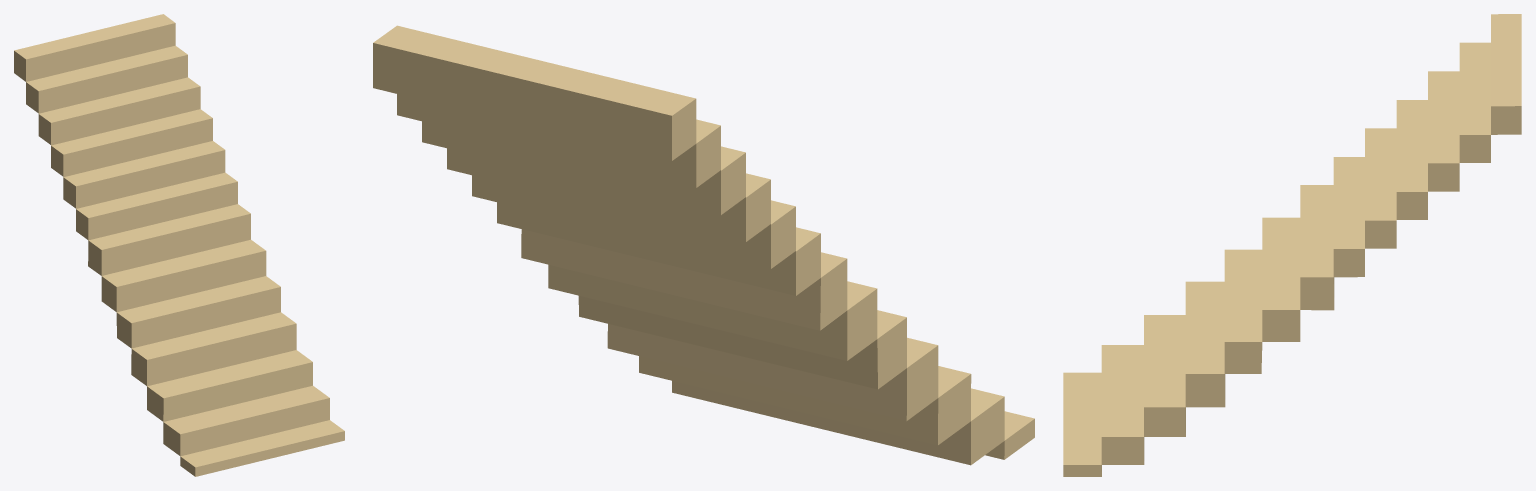
Rendered from stairs.glb.
3 views of the same model, side by side, from view 1: azimuth 30°, elevation 25°; view 2: azimuth 150°, elevation 25°; view 3: azimuth 270°, elevation 25° (orthographic). The views are drawn at different scales.
Visible parts, largest first — view 1: lobby_walkable_paths.001; view 2: lobby_walkable_paths.001; view 3: lobby_walkable_paths.001.
Boxes of the visible parts, x1,y1,x2,y2 form: lobby_walkable_paths.001: [14, 14, 344, 476]; lobby_walkable_paths.001: [373, 25, 1034, 465]; lobby_walkable_paths.001: [1063, 14, 1521, 476].
Bounding box in the file's own units: 1.85 × 3.48 × 3.9.
